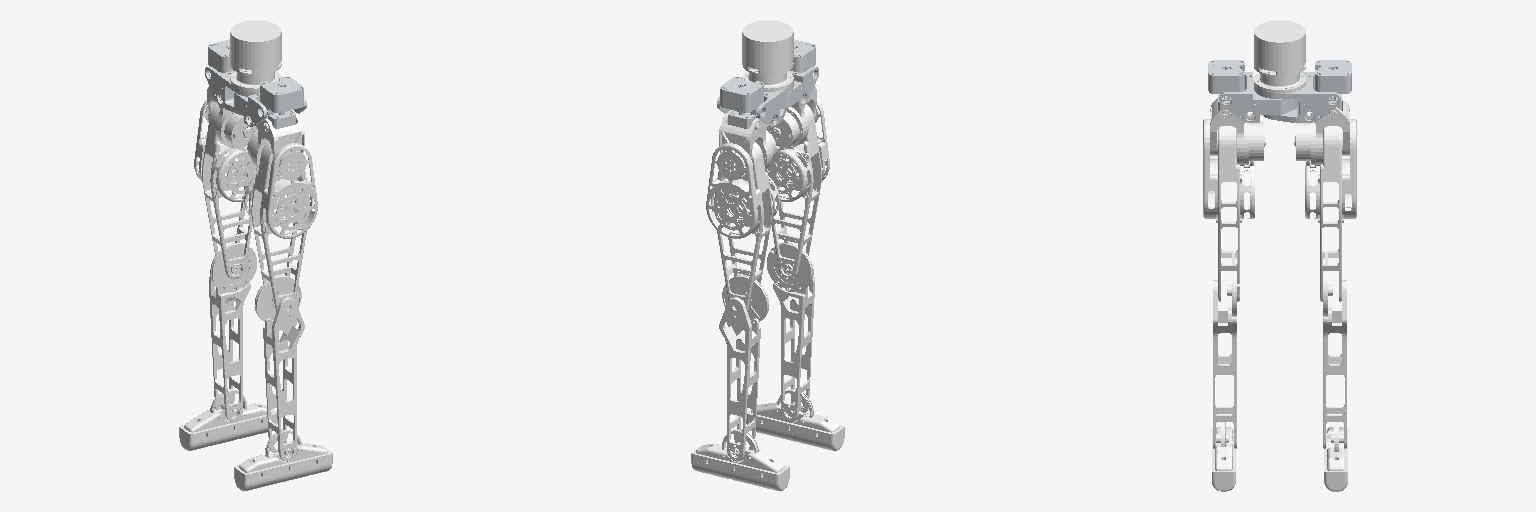
The robot description file, URDF, robot "M02.2.2-2_urdf":
<?xml version="1.0" encoding="utf-8"?>
<!-- This URDF was automatically created by SolidWorks to URDF Exporter! Originally created by [author] ([email redacted]) 
     Commit Version: 1.5.1-0-g916b5db  Build Version: 1.5.7152.31018
     For more information, please see http://wiki.ros.org/sw_urdf_exporter -->
<robot
  name="M02.2.2-2_urdf">
  <link
    name="base_link">
    <inertial>
      <origin
        xyz="-0.0084821 0.0052406 -0.026677"
        rpy="0 0 0" />
      <mass
        value="0.39617" />
      <inertia
        ixx="0.00024695"
        ixy="-1.5521E-06"
        ixz="-3.3351E-07"
        iyy="0.00024515"
        iyz="1.9255E-07"
        izz="0.00034531" />
    </inertial>
    <visual>
      <origin
        xyz="0 0 0"
        rpy="0 0 0" />
      <geometry>
        <mesh
          filename="package://M02.2.2-2_urdf/meshes/base_link.STL" />
      </geometry>
      <material
        name="">
        <color
          rgba="1 1 1 1" />
      </material>
    </visual>
    <collision>
      <origin
        xyz="0 0 0"
        rpy="0 0 0" />
      <geometry>
        <mesh
          filename="package://M02.2.2-2_urdf/meshes/base_link.STL" />
      </geometry>
    </collision>
  </link>
  <link
    name="hip_right_1">
    <inertial>
      <origin
        xyz="0.0002208 0.027501 -0.00016309"
        rpy="0 0 0" />
      <mass
        value="0.32818" />
      <inertia
        ixx="0.00032175"
        ixy="-1.2669E-06"
        ixz="-8.1113E-08"
        iyy="0.00030056"
        iyz="-3.0987E-05"
        izz="0.00043674" />
    </inertial>
    <visual>
      <origin
        xyz="0 0 0"
        rpy="0 0 0" />
      <geometry>
        <mesh
          filename="package://M02.2.2-2_urdf/meshes/hip_right_1.STL" />
      </geometry>
      <material
        name="">
        <color
          rgba="0.89804 0.91765 0.92941 1" />
      </material>
    </visual>
    <collision>
      <origin
        xyz="0 0 0"
        rpy="0 0 0" />
      <geometry>
        <mesh
          filename="package://M02.2.2-2_urdf/meshes/hip_right_1.STL" />
      </geometry>
    </collision>
  </link>
  <joint
    name="hip_right_z"
    type="revolute">
    <origin
      xyz="-0.0086092 0.005314 -0.095389"
      rpy="0 0 0" />
    <parent
      link="base_link" />
    <child
      link="hip_right_1" />
    <axis
      xyz="0 0 1" />
    <limit
      lower="0"
      upper="0"
      effort="0"
      velocity="0" />
  </joint>
  <link
    name="hip_right_2">
    <inertial>
      <origin
        xyz="-8.70876796118941E-05 -0.0450087964835516 -0.1284029377376"
        rpy="0 0 0" />
      <mass
        value="5.08589390287536" />
      <inertia
        ixx="0.22961611489318"
        ixy="2.35182607271169E-05"
        ixz="-0.00023036663073331"
        iyy="0.20659745123802"
        iyz="-4.31629214428974E-06"
        izz="0.0286113342280241" />
    </inertial>
    <visual>
      <origin
        xyz="0 0 0"
        rpy="0 0 0" />
      <geometry>
        <mesh
          filename="package://M02.2.2-2_urdf/meshes/hip_right_2.STL" />
      </geometry>
      <material
        name="">
        <color
          rgba="1 1 1 1" />
      </material>
    </visual>
    <collision>
      <origin
        xyz="0 0 0"
        rpy="0 0 0" />
      <geometry>
        <mesh
          filename="package://M02.2.2-2_urdf/meshes/hip_right_2.STL" />
      </geometry>
    </collision>
  </link>
  <joint
    name="hip_right_x"
    type="revolute">
    <origin
      xyz="0 0.045 -0.01575"
      rpy="0 0 0" />
    <parent
      link="hip_right_1" />
    <child
      link="hip_right_2" />
    <axis
      xyz="1 0 0" />
    <limit
      lower="0"
      upper="0"
      effort="0"
      velocity="0" />
  </joint>
  <link
    name="leg_right_1">
    <inertial>
      <origin
        xyz="-8.70876796118802E-05 -0.0801337964835517 -0.0684029377375995"
        rpy="0 0 0" />
      <mass
        value="5.08589390287536" />
      <inertia
        ixx="0.22961611489318"
        ixy="2.35182607271193E-05"
        ixz="-0.00023036663073331"
        iyy="0.20659745123802"
        iyz="-4.31629214428976E-06"
        izz="0.0286113342280241" />
    </inertial>
    <visual>
      <origin
        xyz="0 0 0"
        rpy="0 0 0" />
      <geometry>
        <mesh
          filename="package://M02.2.2-2_urdf/meshes/leg_right_1.STL" />
      </geometry>
      <material
        name="">
        <color
          rgba="1 1 1 1" />
      </material>
    </visual>
    <collision>
      <origin
        xyz="0 0 0"
        rpy="0 0 0" />
      <geometry>
        <mesh
          filename="package://M02.2.2-2_urdf/meshes/leg_right_1.STL" />
      </geometry>
    </collision>
  </link>
  <joint
    name="hip_right_y"
    type="revolute">
    <origin
      xyz="0 0.035125 -0.06"
      rpy="0 0 0" />
    <parent
      link="hip_right_2" />
    <child
      link="leg_right_1" />
    <axis
      xyz="0 1 0" />
    <limit
      lower="0"
      upper="0"
      effort="0"
      velocity="0" />
  </joint>
  <link
    name="leg_right_2">
    <inertial>
      <origin
        xyz="-8.70876796123105E-05 -0.0842587964835519 0.1815970622624"
        rpy="0 0 0" />
      <mass
        value="5.08589390287536" />
      <inertia
        ixx="0.22961611489318"
        ixy="2.35182607271191E-05"
        ixz="-0.000230366630733311"
        iyy="0.20659745123802"
        iyz="-4.31629214428803E-06"
        izz="0.0286113342280241" />
    </inertial>
    <visual>
      <origin
        xyz="0 0 0"
        rpy="0 0 0" />
      <geometry>
        <mesh
          filename="package://M02.2.2-2_urdf/meshes/leg_right_2.STL" />
      </geometry>
      <material
        name="">
        <color
          rgba="1 1 1 1" />
      </material>
    </visual>
    <collision>
      <origin
        xyz="0 0 0"
        rpy="0 0 0" />
      <geometry>
        <mesh
          filename="package://M02.2.2-2_urdf/meshes/leg_right_2.STL" />
      </geometry>
    </collision>
  </link>
  <joint
    name="knee_right_y"
    type="revolute">
    <origin
      xyz="0 0.004125 -0.25"
      rpy="0 0 0" />
    <parent
      link="leg_right_1" />
    <child
      link="leg_right_2" />
    <axis
      xyz="0 -1 0" />
    <limit
      lower="0"
      upper="0"
      effort="0"
      velocity="0" />
  </joint>
  <link
    name="foot_right">
    <inertial>
      <origin
        xyz="-8.70876796122758E-05 -0.0857587964835521 0.4315970622624"
        rpy="0 0 0" />
      <mass
        value="5.08589390287536" />
      <inertia
        ixx="0.22961611489318"
        ixy="2.35182607271191E-05"
        ixz="-0.00023036663073331"
        iyy="0.20659745123802"
        iyz="-4.31629214428976E-06"
        izz="0.0286113342280241" />
    </inertial>
    <visual>
      <origin
        xyz="0 0 0"
        rpy="0 0 0" />
      <geometry>
        <mesh
          filename="package://M02.2.2-2_urdf/meshes/foot_right.STL" />
      </geometry>
      <material
        name="">
        <color
          rgba="1 1 1 1" />
      </material>
    </visual>
    <collision>
      <origin
        xyz="0 0 0"
        rpy="0 0 0" />
      <geometry>
        <mesh
          filename="package://M02.2.2-2_urdf/meshes/foot_right.STL" />
      </geometry>
    </collision>
  </link>
  <joint
    name="ankle_right_y"
    type="revolute">
    <origin
      xyz="0 0.0015 -0.25"
      rpy="0 0 0" />
    <parent
      link="leg_right_2" />
    <child
      link="foot_right" />
    <axis
      xyz="0 -1 0" />
    <limit
      lower="0"
      upper="0"
      effort="0"
      velocity="0" />
  </joint>
  <link
    name="hip_left_1">
    <inertial>
      <origin
        xyz="0.000224930672830199 -0.0279535029576996 0.00210137348851042"
        rpy="0 0 0" />
      <mass
        value="0.322202116849163" />
      <inertia
        ixx="0.000225642212340295"
        ixy="1.23435710571317E-06"
        ixz="8.31090335159964E-08"
        iyy="0.000257614675678871"
        iyz="8.8366830260423E-06"
        izz="0.00041594124322794" />
    </inertial>
    <visual>
      <origin
        xyz="0 0 0"
        rpy="0 0 0" />
      <geometry>
        <mesh
          filename="package://M02.2.2-2_urdf/meshes/hip_left_1.STL" />
      </geometry>
      <material
        name="">
        <color
          rgba="0.898039215686275 0.917647058823529 0.929411764705882 1" />
      </material>
    </visual>
    <collision>
      <origin
        xyz="0 0 0"
        rpy="0 0 0" />
      <geometry>
        <mesh
          filename="package://M02.2.2-2_urdf/meshes/hip_left_1.STL" />
      </geometry>
    </collision>
  </link>
  <joint
    name="hip_left_z"
    type="revolute">
    <origin
      xyz="-0.0086092 0.005314 -0.095389"
      rpy="0 0 0" />
    <parent
      link="base_link" />
    <child
      link="hip_left_1" />
    <axis
      xyz="0 0 1" />
    <limit
      lower="0"
      upper="0"
      effort="0"
      velocity="0" />
  </joint>
  <link
    name="hip_left_2">
    <inertial>
      <origin
        xyz="-8.70876796119566E-05 0.0449912035164484 -0.128402937737599"
        rpy="0 0 0" />
      <mass
        value="5.08589390287536" />
      <inertia
        ixx="0.22961611489318"
        ixy="2.3518260727112E-05"
        ixz="-0.000230366630733387"
        iyy="0.20659745123802"
        iyz="-4.31629214439097E-06"
        izz="0.0286113342280241" />
    </inertial>
    <visual>
      <origin
        xyz="0 0 0"
        rpy="0 0 0" />
      <geometry>
        <mesh
          filename="package://M02.2.2-2_urdf/meshes/hip_left_2.STL" />
      </geometry>
      <material
        name="">
        <color
          rgba="1 1 1 1" />
      </material>
    </visual>
    <collision>
      <origin
        xyz="0 0 0"
        rpy="0 0 0" />
      <geometry>
        <mesh
          filename="package://M02.2.2-2_urdf/meshes/hip_left_2.STL" />
      </geometry>
    </collision>
  </link>
  <joint
    name="hip_left_x"
    type="revolute">
    <origin
      xyz="0 -0.045 -0.01575"
      rpy="0 0 0" />
    <parent
      link="hip_left_1" />
    <child
      link="hip_left_2" />
    <axis
      xyz="-1 0 0" />
    <limit
      lower="0"
      upper="0"
      effort="0"
      velocity="0" />
  </joint>
  <link
    name="leg_left_1">
    <inertial>
      <origin
        xyz="-8.70876796119982E-05 0.0801162035164486 -0.0684029377375983"
        rpy="0 0 0" />
      <mass
        value="5.08589390287536" />
      <inertia
        ixx="0.22961611489318"
        ixy="2.35182607271262E-05"
        ixz="-0.000230366630733395"
        iyy="0.20659745123802"
        iyz="-4.31629214408729E-06"
        izz="0.0286113342280241" />
    </inertial>
    <visual>
      <origin
        xyz="0 0 0"
        rpy="0 0 0" />
      <geometry>
        <mesh
          filename="package://M02.2.2-2_urdf/meshes/leg_left_1.STL" />
      </geometry>
      <material
        name="">
        <color
          rgba="1 1 1 1" />
      </material>
    </visual>
    <collision>
      <origin
        xyz="0 0 0"
        rpy="0 0 0" />
      <geometry>
        <mesh
          filename="package://M02.2.2-2_urdf/meshes/leg_left_1.STL" />
      </geometry>
    </collision>
  </link>
  <joint
    name="hip_left_y"
    type="revolute">
    <origin
      xyz="0 -0.035125 -0.06"
      rpy="0 0 0" />
    <parent
      link="hip_left_2" />
    <child
      link="leg_left_1" />
    <axis
      xyz="0 -1 0" />
    <limit
      lower="0"
      upper="0"
      effort="0"
      velocity="0" />
  </joint>
  <link
    name="leg_left_2">
    <inertial>
      <origin
        xyz="-8.70876796116929E-05 0.0842412035164477 0.181597062262402"
        rpy="0 0 0" />
      <mass
        value="5.08589390287536" />
      <inertia
        ixx="0.22961611489318"
        ixy="2.35182607271254E-05"
        ixz="-0.000230366630733393"
        iyy="0.20659745123802"
        iyz="-4.31629214408729E-06"
        izz="0.0286113342280241" />
    </inertial>
    <visual>
      <origin
        xyz="0 0 0"
        rpy="0 0 0" />
      <geometry>
        <mesh
          filename="package://M02.2.2-2_urdf/meshes/leg_left_2.STL" />
      </geometry>
      <material
        name="">
        <color
          rgba="1 1 1 1" />
      </material>
    </visual>
    <collision>
      <origin
        xyz="0 0 0"
        rpy="0 0 0" />
      <geometry>
        <mesh
          filename="package://M02.2.2-2_urdf/meshes/leg_left_2.STL" />
      </geometry>
    </collision>
  </link>
  <joint
    name="knee_left_y"
    type="revolute">
    <origin
      xyz="0 -0.004125 -0.25"
      rpy="0 0 0" />
    <parent
      link="leg_left_1" />
    <child
      link="leg_left_2" />
    <axis
      xyz="0 1 0" />
    <limit
      lower="0"
      upper="0"
      effort="0"
      velocity="0" />
  </joint>
  <link
    name="foot_left">
    <inertial>
      <origin
        xyz="-8.7087679611686E-05 0.0857412035164476 0.431597062262402"
        rpy="0 0 0" />
      <mass
        value="5.08589390287536" />
      <inertia
        ixx="0.22961611489318"
        ixy="2.35182607271254E-05"
        ixz="-0.000230366630733393"
        iyy="0.20659745123802"
        iyz="-4.31629214408555E-06"
        izz="0.0286113342280241" />
    </inertial>
    <visual>
      <origin
        xyz="0 0 0"
        rpy="0 0 0" />
      <geometry>
        <mesh
          filename="package://M02.2.2-2_urdf/meshes/foot_left.STL" />
      </geometry>
      <material
        name="">
        <color
          rgba="1 1 1 1" />
      </material>
    </visual>
    <collision>
      <origin
        xyz="0 0 0"
        rpy="0 0 0" />
      <geometry>
        <mesh
          filename="package://M02.2.2-2_urdf/meshes/foot_left.STL" />
      </geometry>
    </collision>
  </link>
  <joint
    name="ankle_left_y"
    type="revolute">
    <origin
      xyz="0 -0.0015 -0.25"
      rpy="0 0 0" />
    <parent
      link="leg_left_2" />
    <child
      link="foot_left" />
    <axis
      xyz="0 1 0" />
    <limit
      lower="0"
      upper="0"
      effort="0"
      velocity="0" />
  </joint>
</robot>

--- What the picture shows (computed from the rendered views, not written in the file) ---
3 views of the same robot in one strip: view 1: azimuth 30°, elevation 25°; view 2: azimuth 150°, elevation 25°; view 3: azimuth 270°, elevation 25° (orthographic).
Model M02.2.2-2_urdf with 11 links and 10 joints (10 revolute), rooted at base_link, posed every joint at zero.
Links seen in each view (by area): view 1: leg_left_1, leg_left_2, leg_right_1, leg_right_2, base_link, foot_left, foot_right, hip_left_1, hip_right_1, hip_left_2, hip_right_2; view 2: leg_right_1, leg_right_2, leg_left_1, leg_left_2, base_link, foot_right, foot_left, hip_right_1, hip_left_1, hip_right_2, hip_left_2; view 3: leg_left_1, leg_right_1, base_link, hip_right_1, hip_left_1, leg_left_2, leg_right_2, hip_left_2, hip_right_2, foot_left, foot_right.
Boxes of the visible links, x1,y1,x2,y2 form: leg_left_1: (244, 142, 317, 311); leg_left_2: (255, 275, 304, 461); leg_right_1: (194, 100, 258, 278); leg_right_2: (209, 243, 256, 421); base_link: (230, 20, 281, 91); foot_left: (234, 429, 332, 491); foot_right: (179, 389, 277, 450); hip_left_1: (234, 77, 306, 128); hip_right_1: (205, 39, 259, 115); hip_left_2: (247, 110, 304, 175); hip_right_2: (207, 86, 257, 150); leg_right_1: (706, 142, 779, 311); leg_right_2: (719, 275, 768, 461); leg_left_1: (765, 100, 829, 278); leg_left_2: (767, 243, 814, 421); base_link: (742, 20, 793, 91); foot_right: (691, 429, 789, 490); foot_left: (746, 389, 844, 450); hip_right_1: (717, 77, 793, 128); hip_left_1: (780, 39, 818, 108); hip_right_2: (719, 110, 776, 176); hip_left_2: (766, 86, 816, 150); leg_left_1: (1203, 119, 1254, 301); leg_right_1: (1305, 119, 1356, 301); base_link: (1254, 20, 1305, 93); hip_right_1: (1254, 60, 1351, 122); hip_left_1: (1208, 60, 1298, 122); leg_left_2: (1213, 264, 1239, 448); leg_right_2: (1323, 264, 1346, 448); hip_left_2: (1210, 98, 1265, 164); hip_right_2: (1294, 98, 1349, 164); foot_left: (1212, 422, 1235, 491); foot_right: (1324, 422, 1347, 491).
Size in the robot's own frame: 0.16 by 0.2335 by 0.7381 metres.
Meshes: 11 distinct files referenced, 11 mesh visuals loaded (11 binary STL).